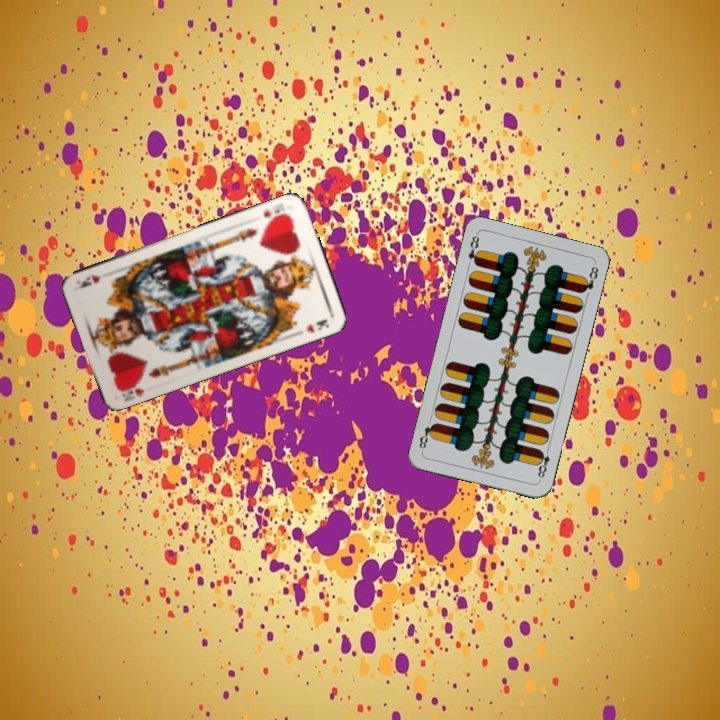E8: (533, 443, 552, 483), (464, 230, 484, 268)
HK: (113, 377, 147, 404), (259, 203, 292, 225)
